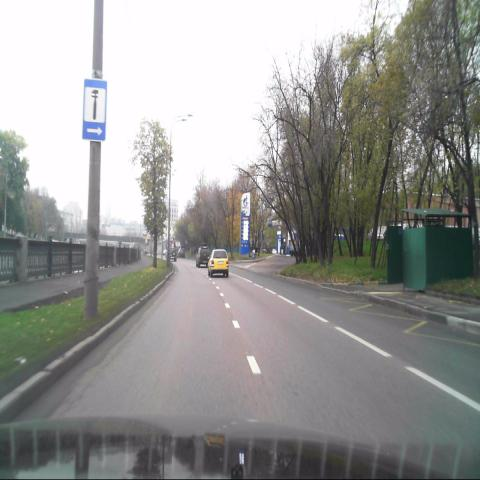7_4: (82, 77, 108, 141)
